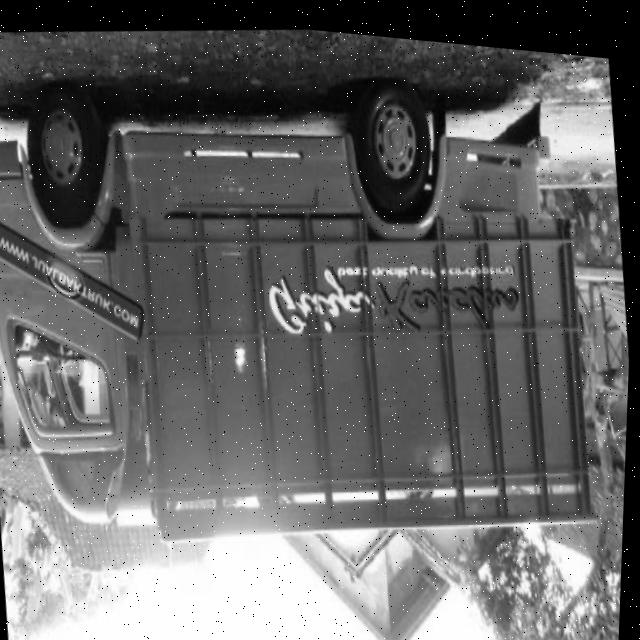truck: (1, 60, 195, 557)
